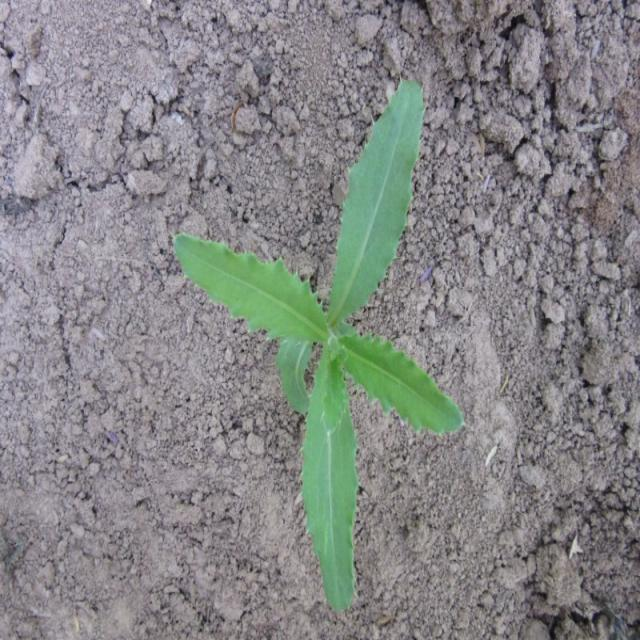cs: (170, 78, 468, 605)
